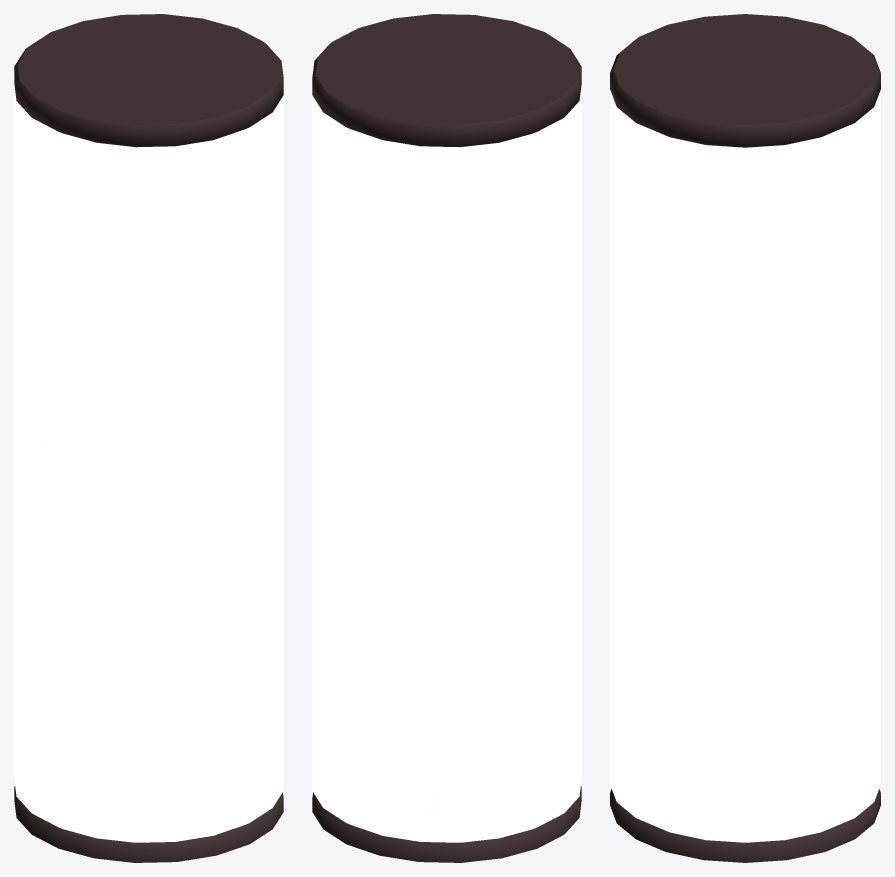
Rendered from 008_pillar.glb.
3 renders of one model, left to right at view 1: azimuth 30°, elevation 25°; view 2: azimuth 150°, elevation 25°; view 3: azimuth 270°, elevation 25°, orthographic.
Parts seen in each view (by area): view 1: pillar; view 2: pillar; view 3: pillar.
Part boxes in pixels (x1,y1,x2,y2): pillar: [14, 14, 283, 862]; pillar: [312, 14, 581, 862]; pillar: [610, 14, 880, 862].
Size of the model in its own units: 0.75 by 2.25 by 0.75.
Materials: 2 (1 with a texture image).
